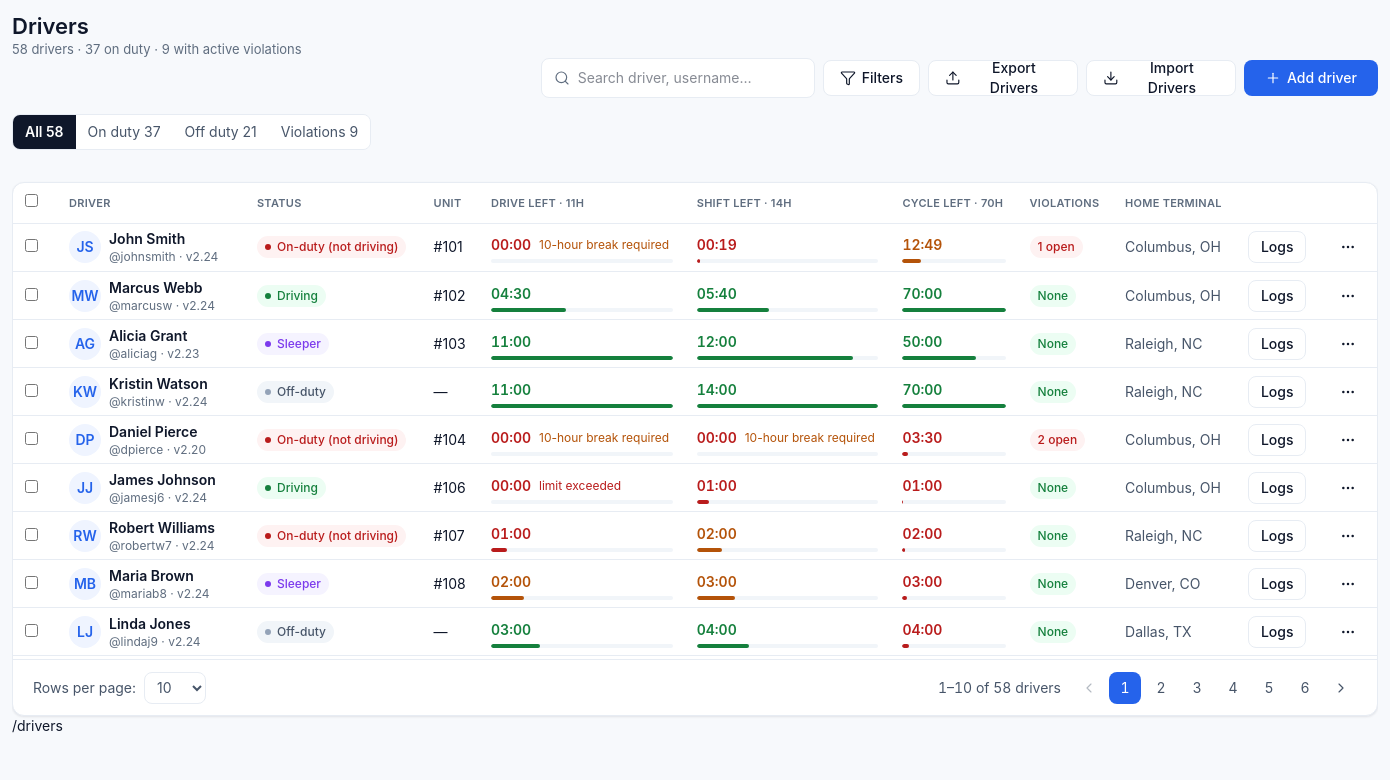
Test: W-06 Drivers › row menu Send message deep-links to that driver's conversation (WB-139)
This screenshot has width=1390, height=780.
expect the text "John Smith" is shown: met, box [109,230,185,247]
Step 1. Click the button named "Row actions" in the row of "JS" → (1348, 247), box [1332,231,1364,263]
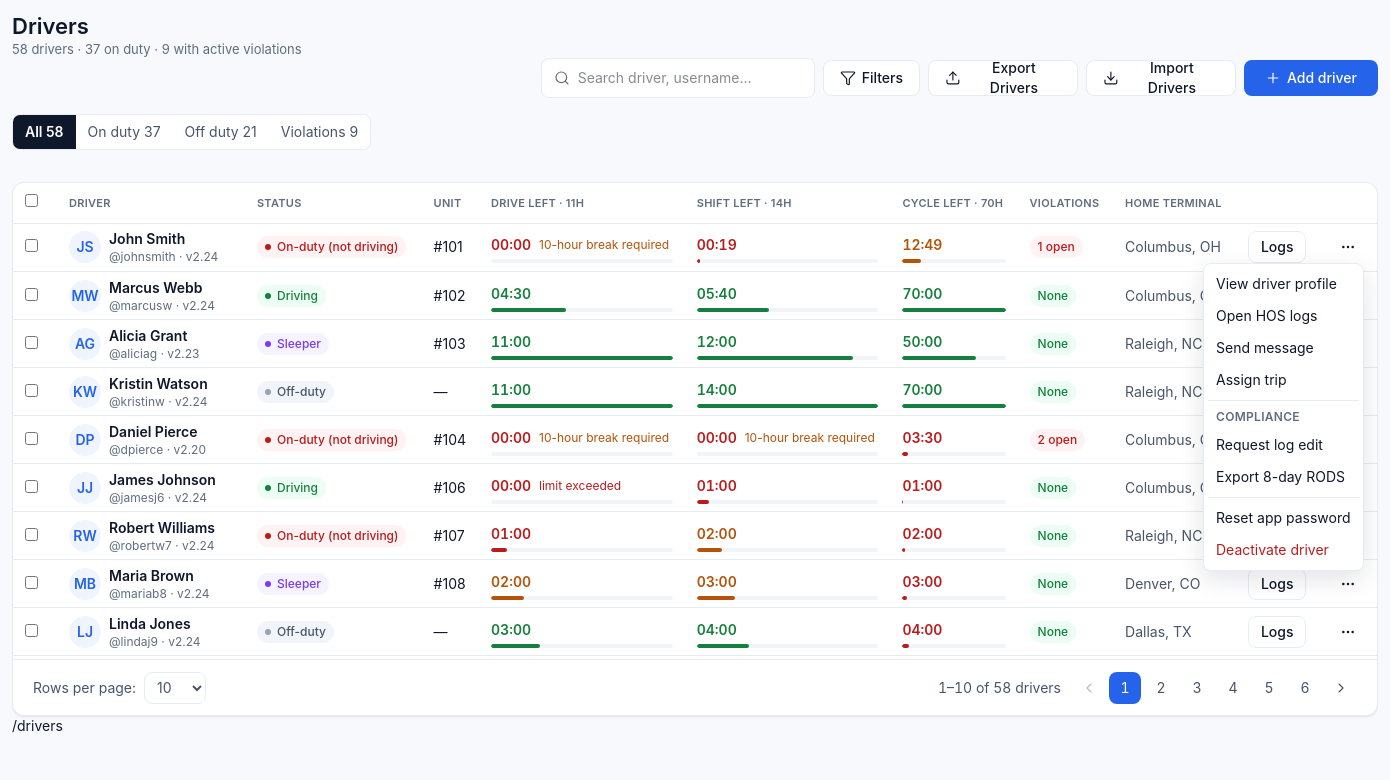
Step 2. Click the menu item "Send message" → (1265, 348), box [1216,339,1314,356]
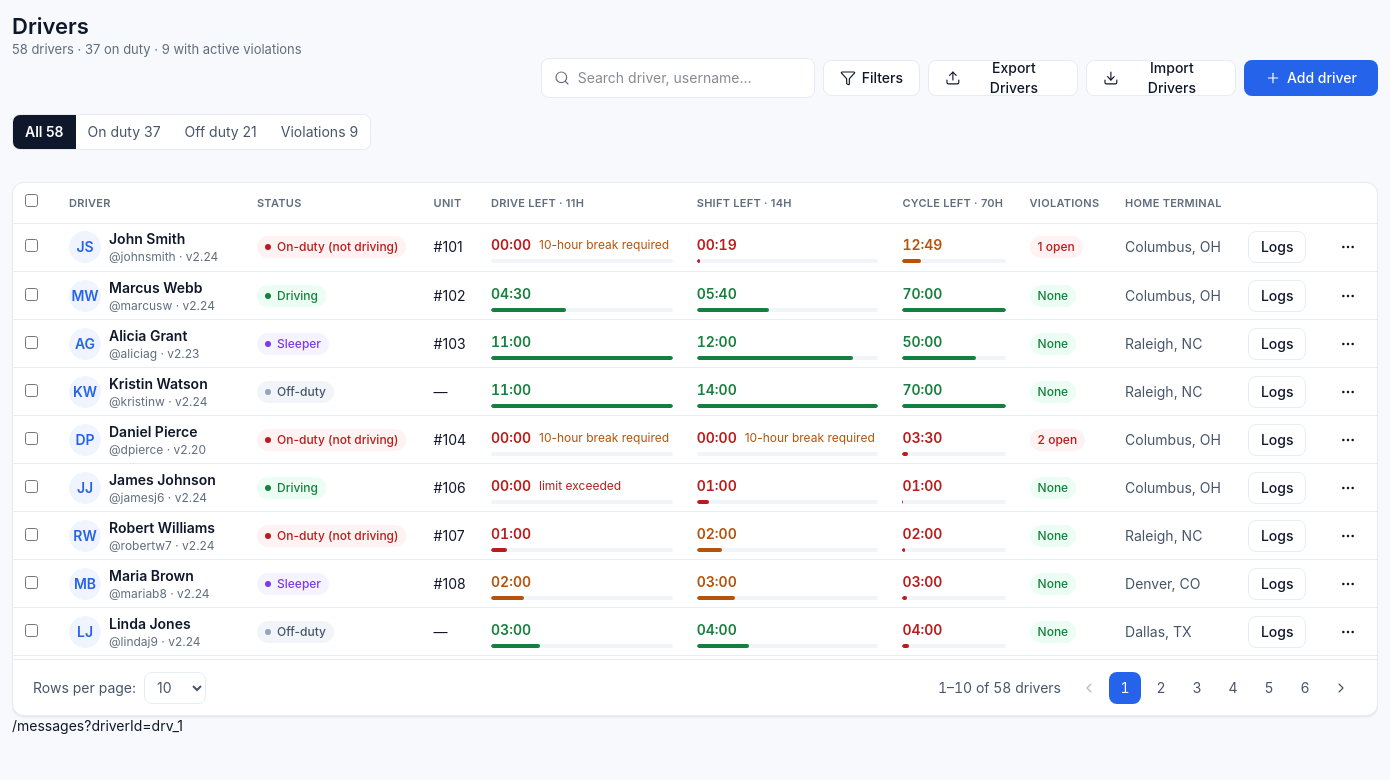
expect the text with test id "location" reads "/messages?driverId=drv_1": met, box [12,717,183,734]
